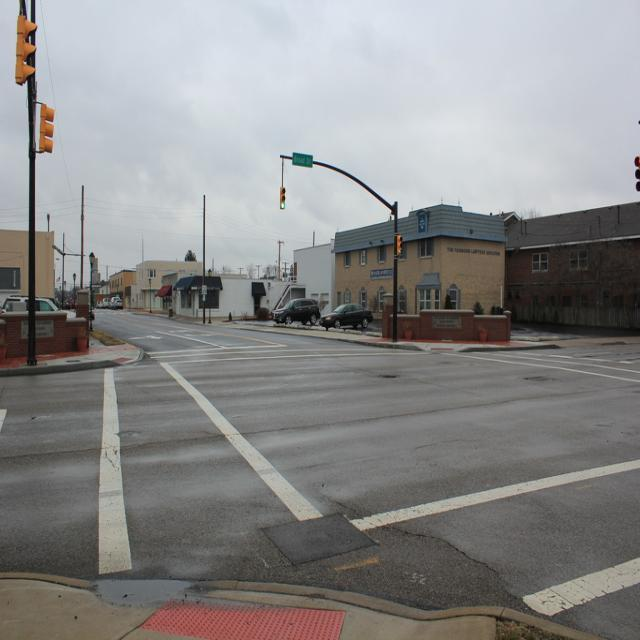off traffic light: (14, 13, 37, 87), (39, 104, 55, 155)
traffic light: (280, 187, 286, 209)
